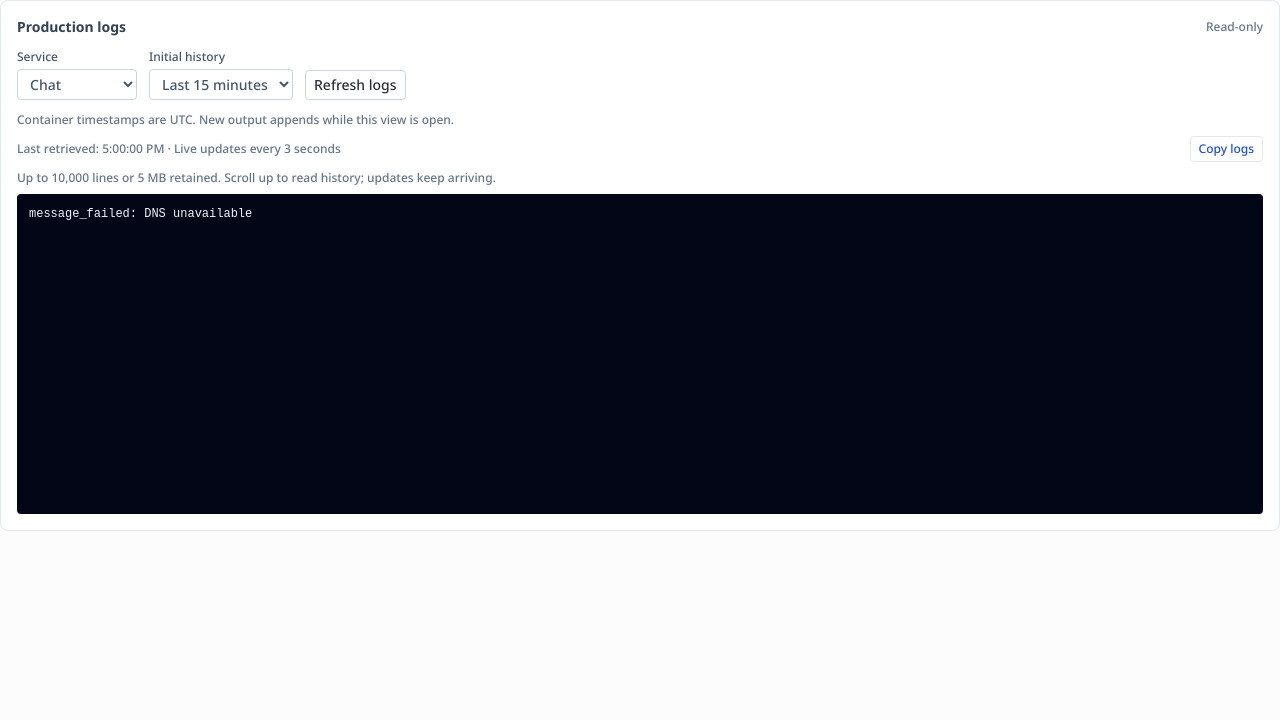
Test: keeps previous output and labels a failed refresh
The width and height of the screenshot is (1280, 720).
Expected: the text "message_failed: DNS unavailable" is shown, [29,207,252,221]
Click the button "Refresh logs": (355, 85) [305,70,406,100]
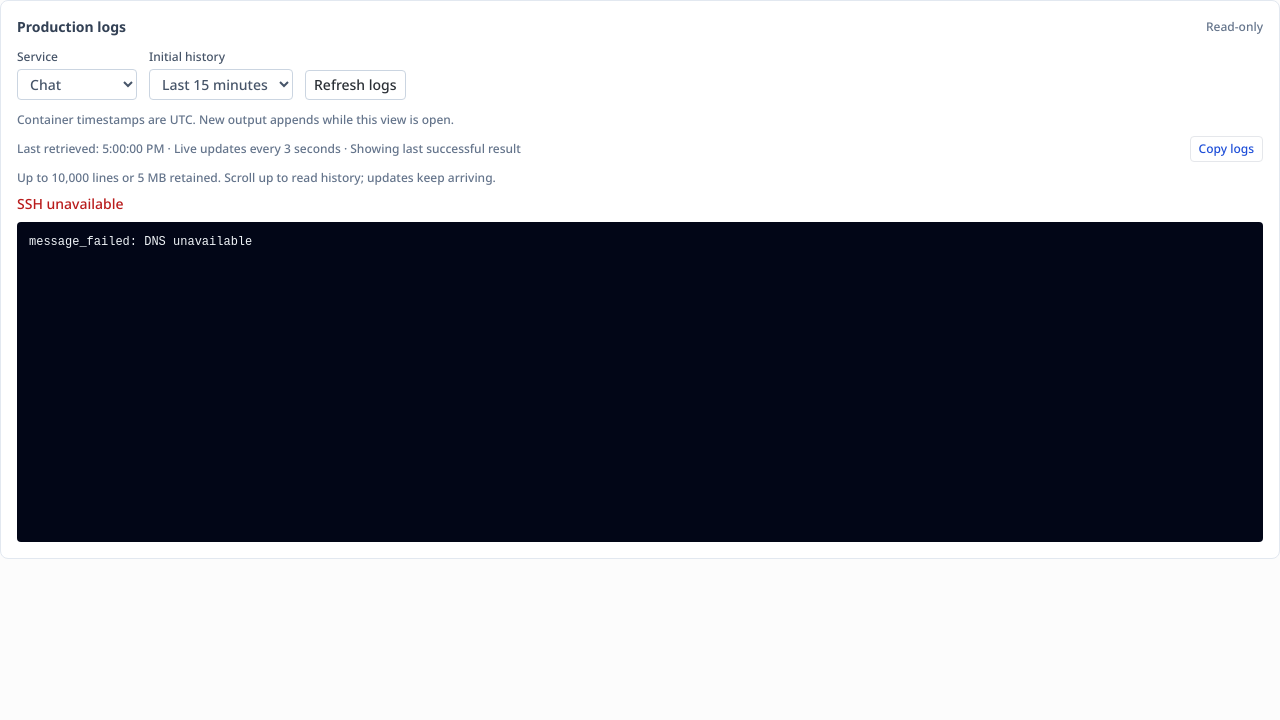
Expected: the text "message_failed: DNS unavailable" is shown, [29,235,252,249]
Expected: the message "SSH unavailable" is shown, [17,194,124,213]
Expected: the message that starts with "Last retrieved: 5:00:00 PM" shows "Showing last successful result", [341,140,521,157]
